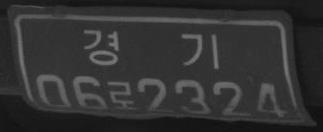0: (34, 72, 72, 110)
2: (213, 79, 252, 118), (139, 76, 174, 116)
3: (174, 77, 213, 116)
4: (254, 80, 288, 119)
6: (73, 73, 109, 111)
경기_D: (81, 28, 221, 70)
로: (108, 79, 139, 112)
